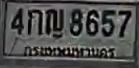4: (10, 7, 23, 34)
5: (101, 9, 115, 36)
6: (85, 9, 98, 35)
7: (118, 9, 131, 37)
8: (69, 8, 82, 35)
A01: (27, 8, 42, 34)
A13: (45, 8, 64, 39)
BKK: (21, 43, 117, 61)
